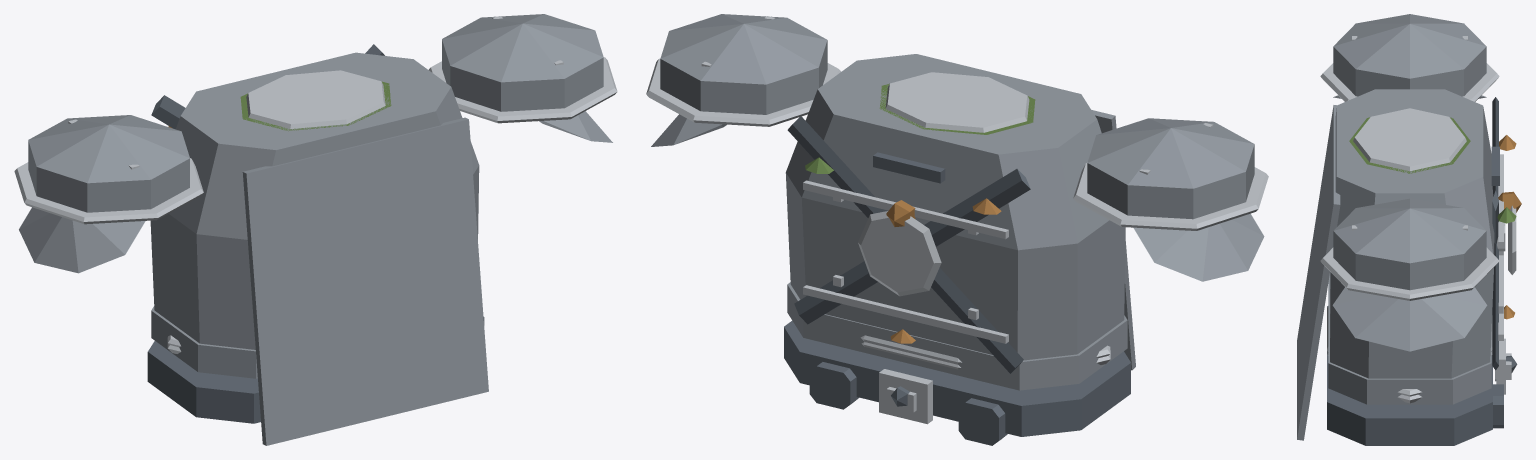
Rendered from armor_dualblade_s3.fbx.
3 renders of one model, left to right at view 1: azimuth 30°, elevation 25°; view 2: azimuth 150°, elevation 25°; view 3: azimuth 270°, elevation 25°, orthographic. The views are drawn at different scales.
Visible parts, largest first — view 1: Chest_Body, Shoulder_L_Body, Shoulder_R_Body, Chest_Trim, Chest_Inner, Shoulder_L_Trim, Shoulder_R_Trim, Chest_Attach; view 2: Chest_Body, Chest_Inner, Shoulder_L_Body, Chest_Trim, Shoulder_R_Body, Shoulder_L_Trim, Shoulder_R_Trim, Chest_Attach, Chest_Trim_Ep; view 3: Chest_Body, Shoulder_R_Body, Shoulder_L_Body, Chest_Inner, Chest_Trim, Shoulder_R_Trim, Shoulder_L_Trim, Chest_Attach, Chest_Gem_Ep, Chest_Gem, Chest_Trim_Ep.
Boxes of the visible parts, x1,y1,x2,y2 form: Chest_Body: (150,52,488,445); Shoulder_L_Body: (19,115,189,273); Shoulder_R_Body: (442,14,612,142); Chest_Trim: (167,70,385,353); Chest_Inner: (147,44,484,423); Shoulder_L_Trim: (14,119,203,224); Shoulder_R_Trim: (429,16,617,123); Chest_Attach: (240,81,391,131); Chest_Body: (785,54,1135,390); Chest_Inner: (784,116,1130,445); Shoulder_L_Body: (1087,118,1264,281); Chest_Trim: (803,72,1110,424); Shoulder_R_Body: (651,14,827,146); Shoulder_L_Trim: (1073,123,1268,230); Shoulder_R_Trim: (646,16,841,126); Chest_Attach: (805,83,1035,173); Chest_Trim_Ep: (860,335,1110,364); Chest_Body: (1297,89,1494,440); Shoulder_R_Body: (1332,198,1487,351); Shoulder_L_Body: (1333,14,1486,98); Chest_Inner: (1327,97,1517,445); Chest_Trim: (1327,108,1516,403); Shoulder_R_Trim: (1320,225,1499,300); Shoulder_L_Trim: (1320,36,1499,101); Chest_Attach: (1349,117,1516,223); Chest_Gem_Ep: (1499,135,1516,319); Chest_Gem: (1498,191,1521,212); Chest_Trim_Ep: (1327,306,1492,396).
Size of the model in its own units: 446 by 219 by 163.
